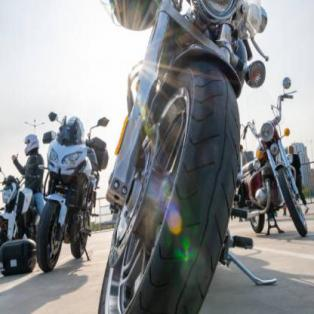Motocicleta: (96, 0, 267, 313), (34, 105, 105, 278), (242, 78, 312, 242), (0, 164, 34, 249)
